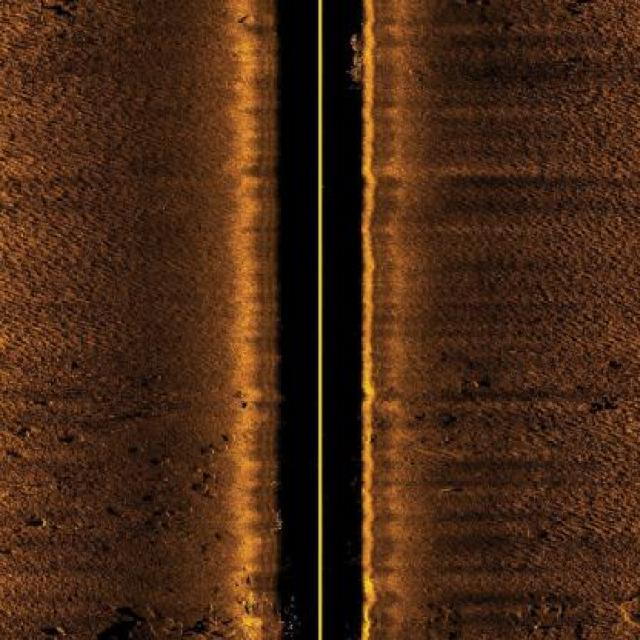mine: (38, 624, 68, 638), (436, 484, 467, 496), (473, 378, 493, 388)
